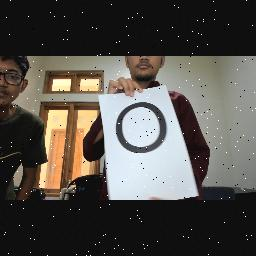o: (114, 102, 172, 156)
